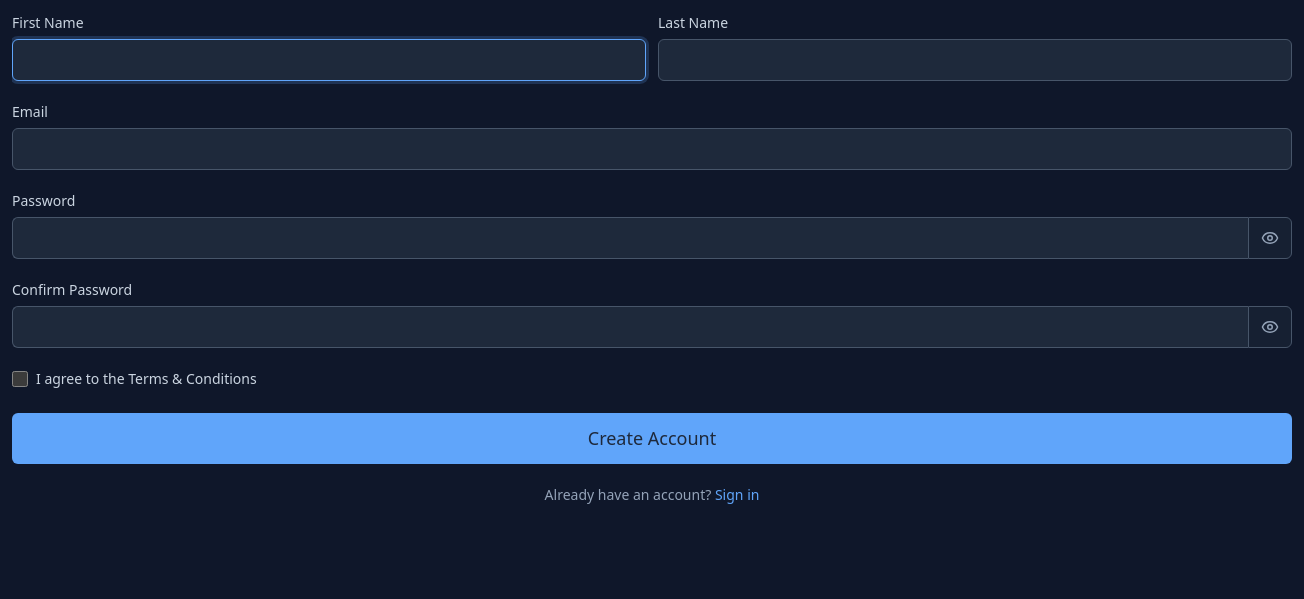
Test case: RegisterForm › validation › shows password required error when submitted empty
This screenshot has width=1304, height=599.
Type "test@example.com" into the field labelled "Email". click: {"x": 652, "y": 149}
box: [12,128,1292,170]
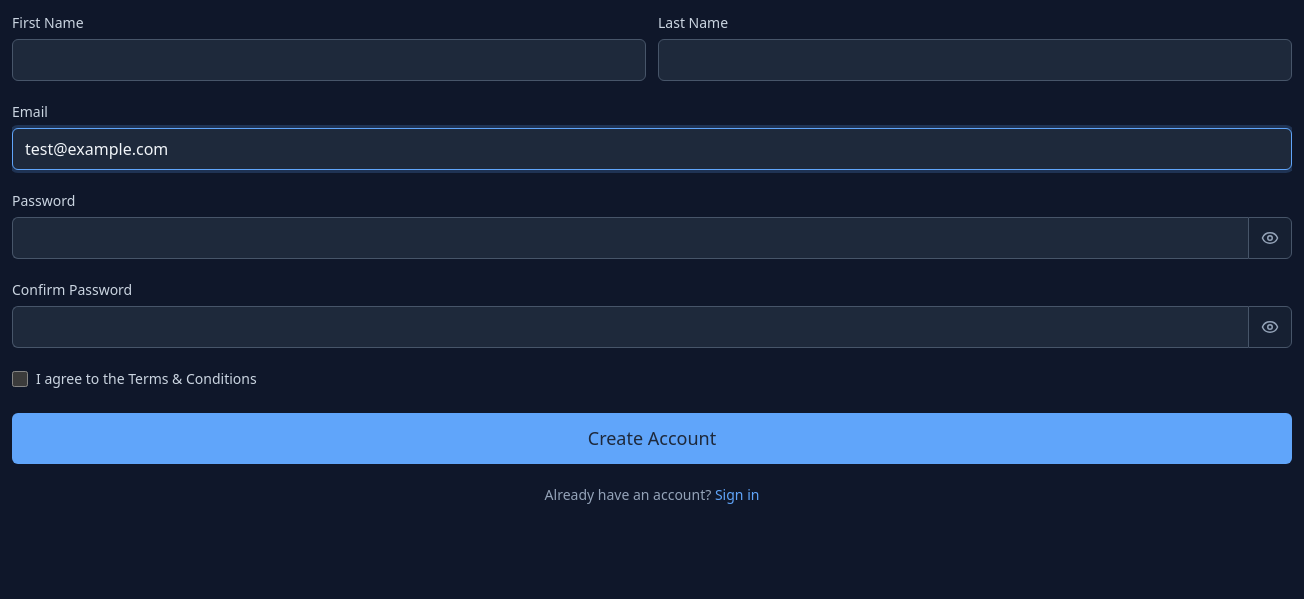
Click the button "Create Account". click: {"x": 652, "y": 438}
box: [12,413,1292,464]
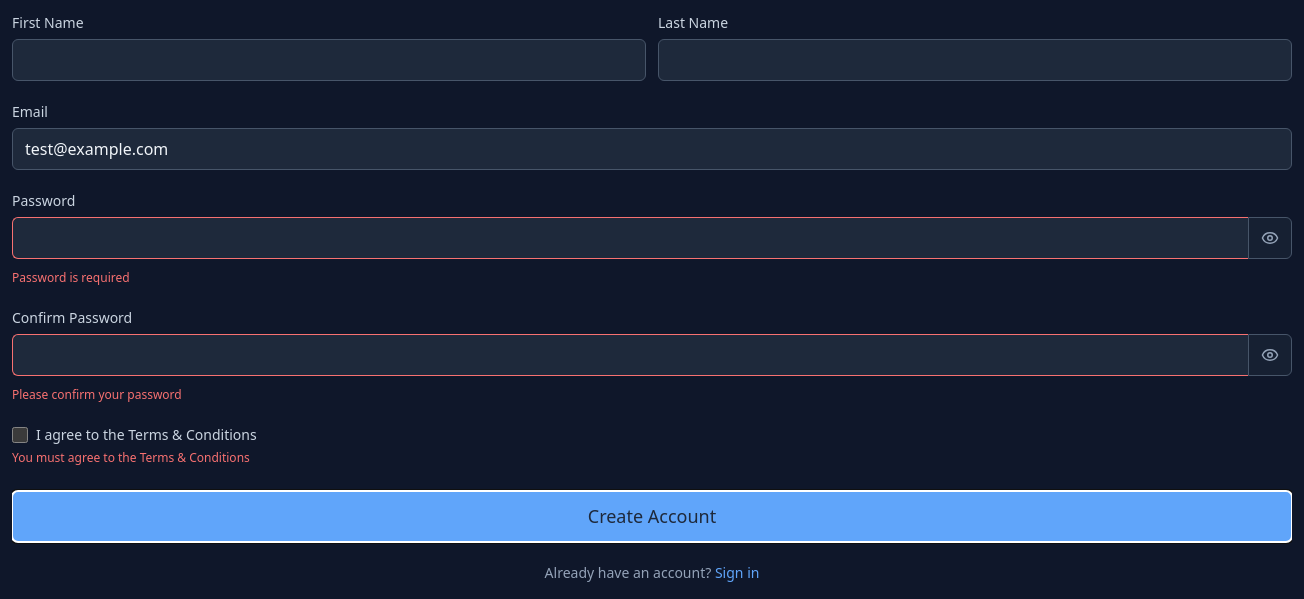
Now the text "Password is required" is shown, box [12,269,130,286]
